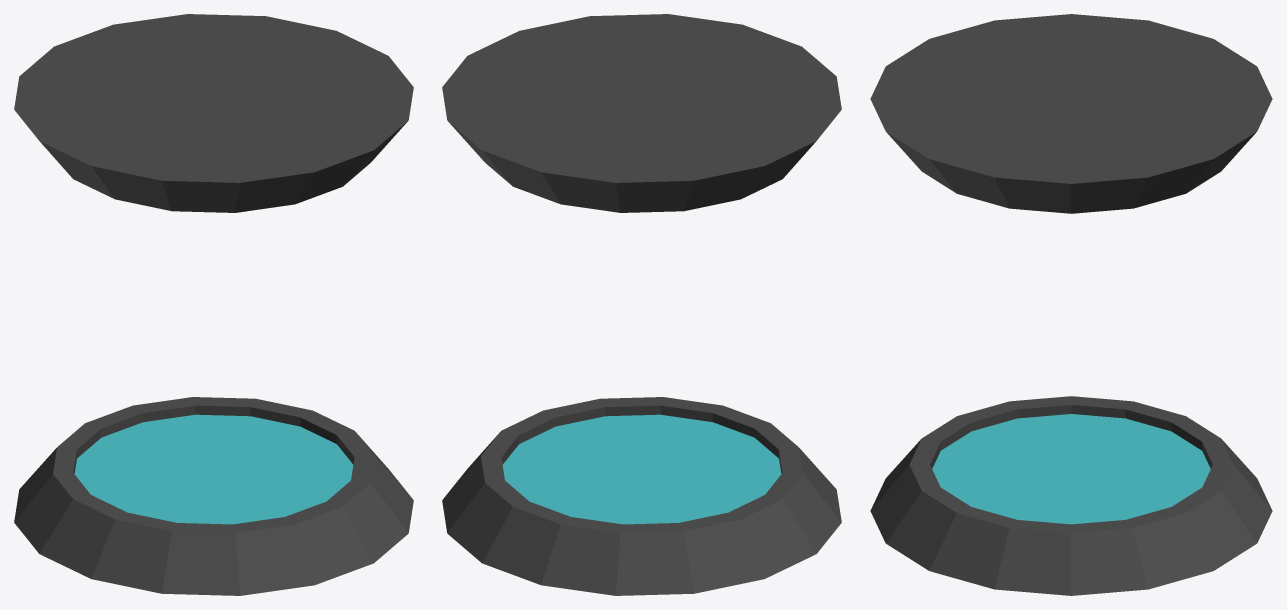
Rendered from Checkpoint.fbx.
3 renders of one model, left to right at view 1: azimuth 30°, elevation 25°; view 2: azimuth 150°, elevation 25°; view 3: azimuth 270°, elevation 25°, orthographic.
Parts seen in each view (by area): view 1: Bottom, Top; view 2: Bottom, Top; view 3: Bottom, Top.
Boxes of the visible parts, box(x1,y1,x2,y2) form: Bottom: box(14, 397, 413, 595); Top: box(14, 14, 413, 212); Bottom: box(442, 397, 841, 595); Top: box(442, 14, 841, 212); Bottom: box(870, 396, 1272, 595); Top: box(870, 14, 1272, 213).
Size of the model in its own units: 221 by 250 by 221.
